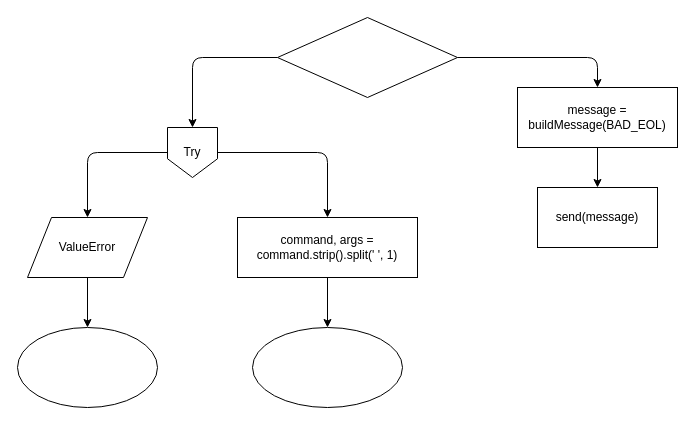
The diagram is 695 pixels wide and 425 high, and some of its shapes have lost their labels. The centre of each missing label's shape, as x and y in pixels:
command = "" or '\n' in command: pixel 367 57
return [command, args.split( ' ' )]: pixel 327 367
return command.strip().split(): pixel 87 367
